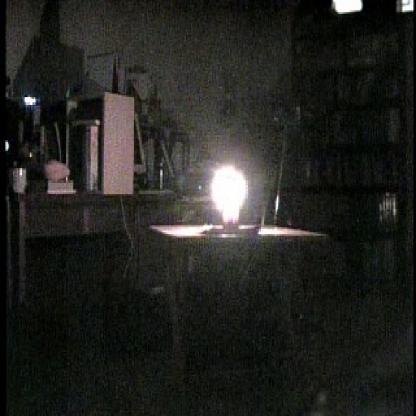fire: (196, 136, 261, 243)
